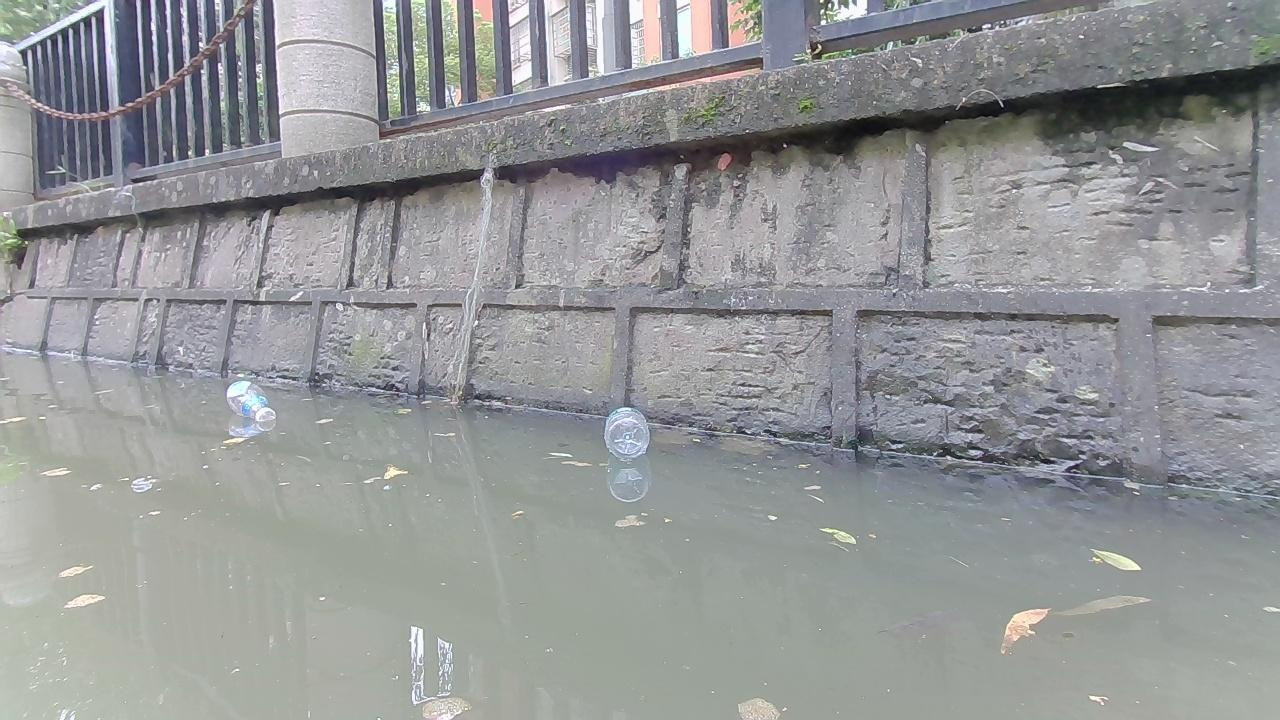bottle: (602, 404, 649, 459), (224, 379, 274, 423)
